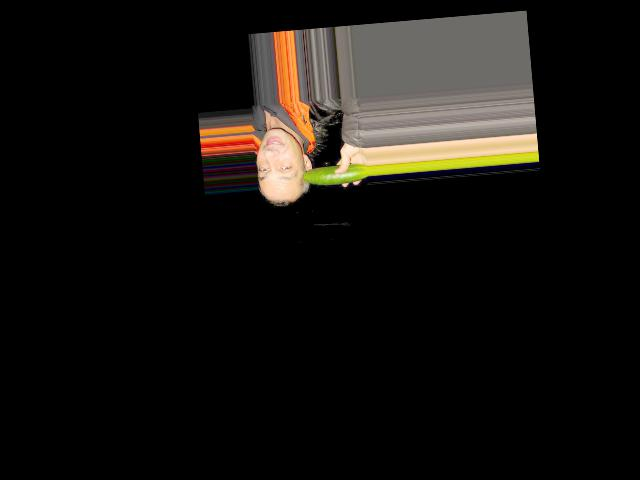cucumber: (301, 163, 368, 187)
